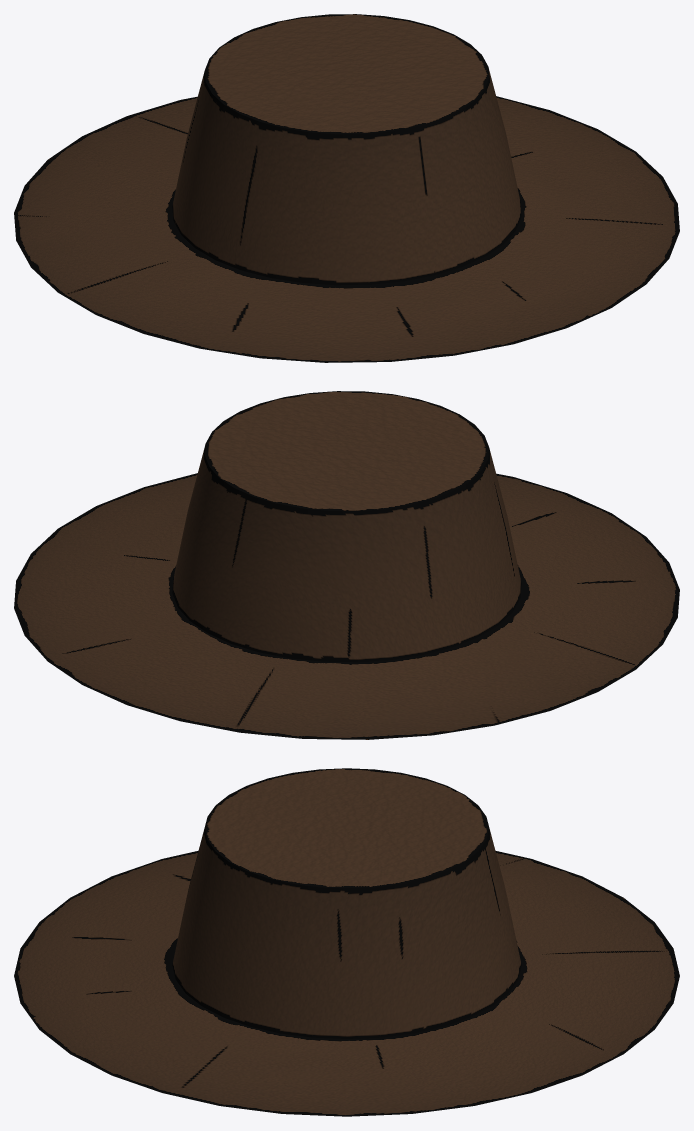
Rendered from hat_test.fbx.
3 renders of one model, top to bottom at view 1: azimuth 30°, elevation 25°; view 2: azimuth 150°, elevation 25°; view 3: azimuth 270°, elevation 25°, orthographic.
Parts seen in each view (by area): view 1: hat; view 2: hat; view 3: hat.
Part boxes in pixels (x1=…): hat: x1=14, y1=14, x2=679, y2=362; hat: x1=14, y1=391, x2=679, y2=739; hat: x1=14, y1=768, x2=679, y2=1116.
Bounding box in the file's own units: 195 × 48.58 × 195.
